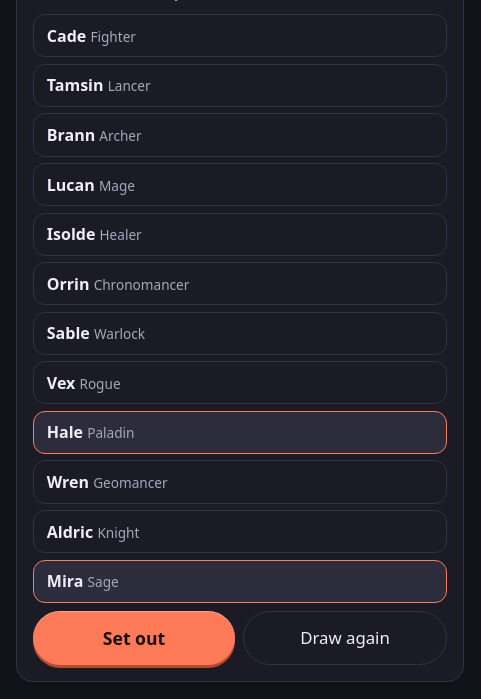
Test: StartScreen › given a full party, when a chosen hero is let go, then the party can't set out
(page scrolled)
Click the button "Hale Paladin" at (65, 432), box x1=33 y1=411 x2=447 y2=454
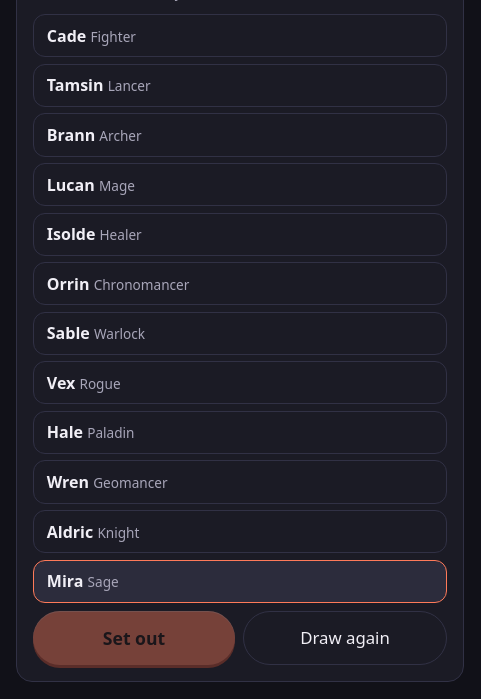
Expected: the button "Set out" is disabled, x1=33 y1=611 x2=235 y2=664
